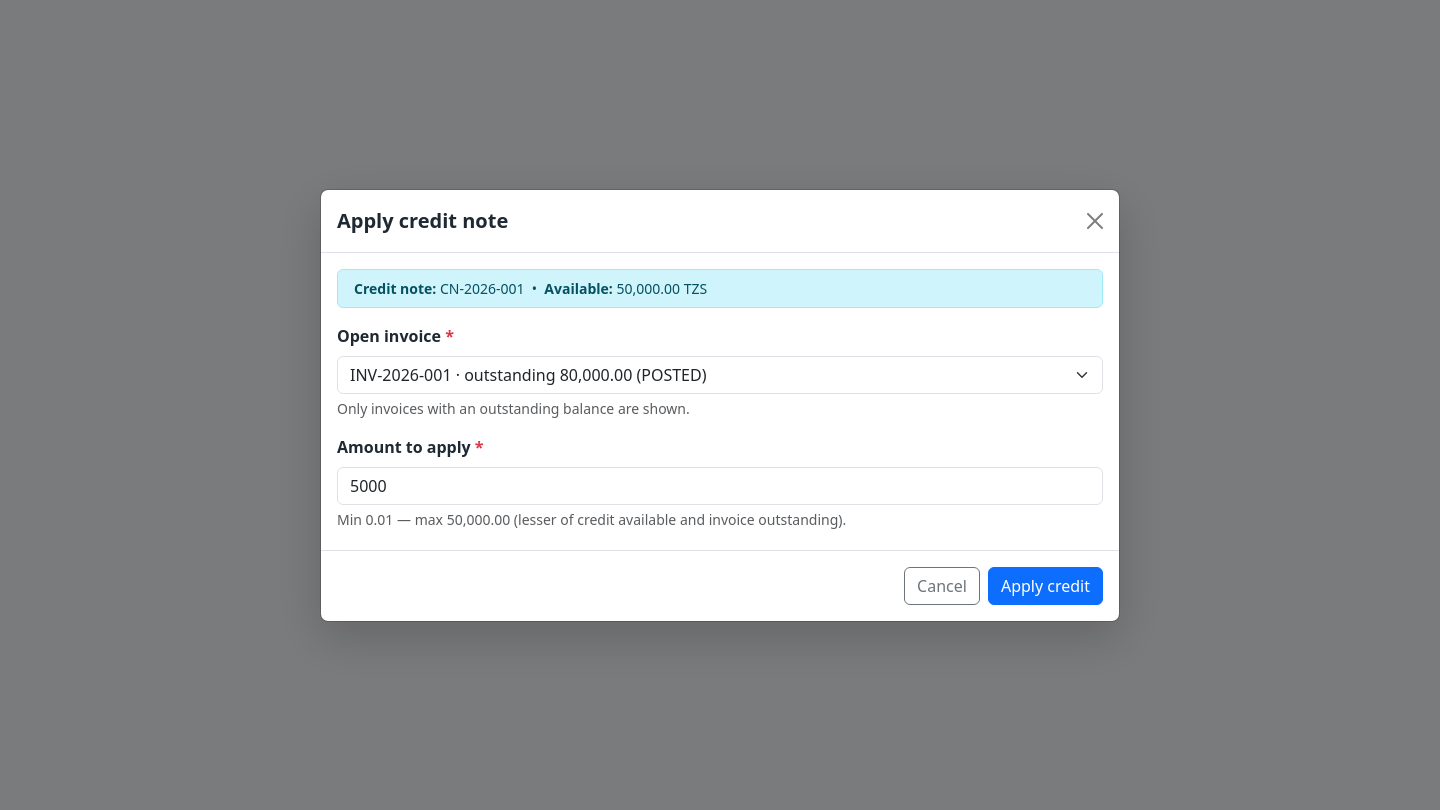
Test: CreditNoteApplyModalComponent › error handling › maps 422 without FULLY_ALLOCATED message to an amount field error
Click the submit button: click(1045, 586) [988,566,1103,604]
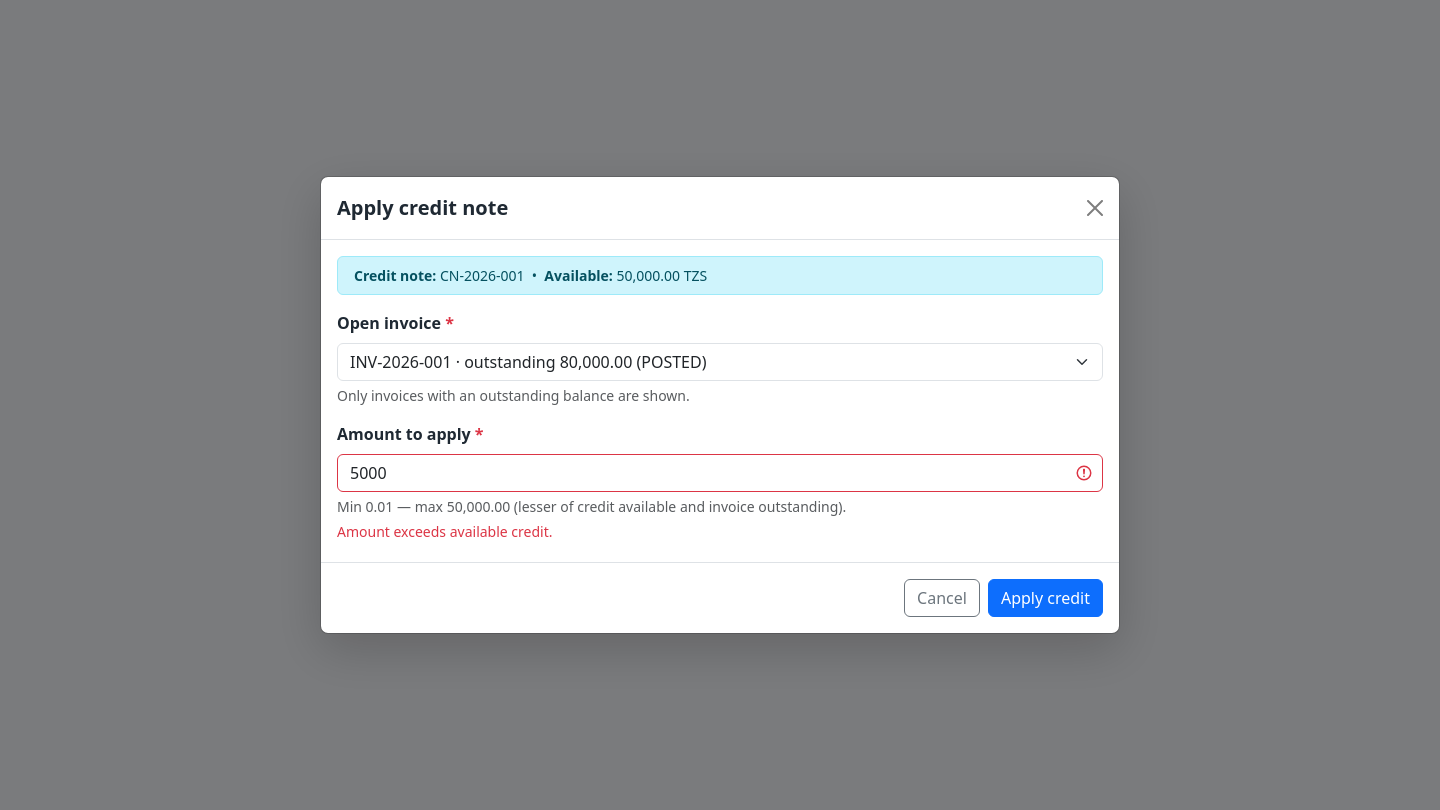
Now the text "Amount exceeds available credit" is shown, box [337,522,552,541]
